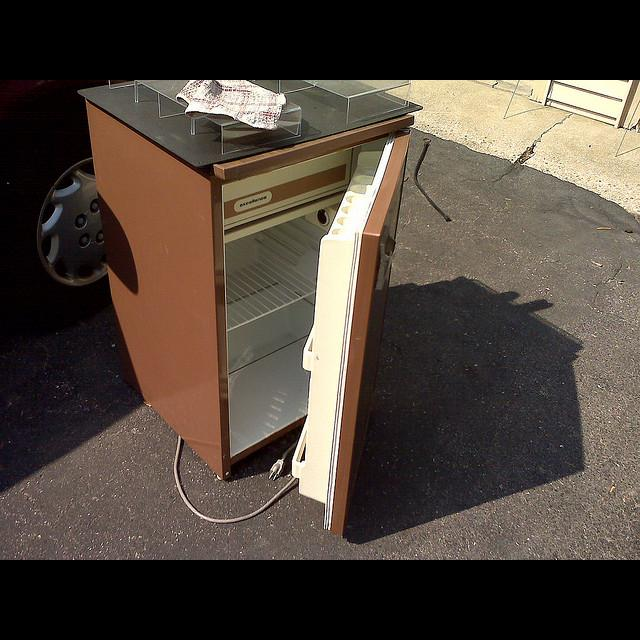Refrigerator: (80, 81, 413, 542)
